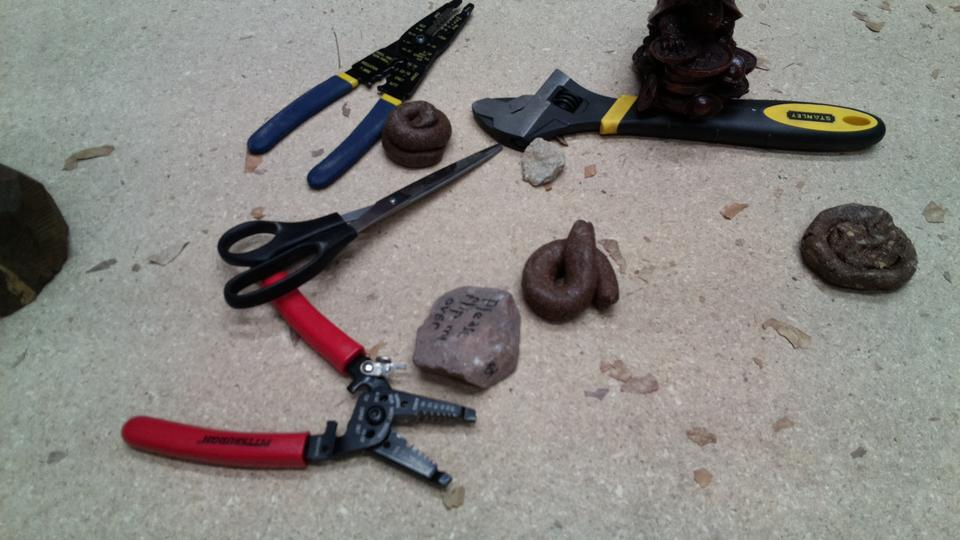poop: (795, 200, 925, 297), (518, 217, 625, 324), (381, 98, 455, 173)
